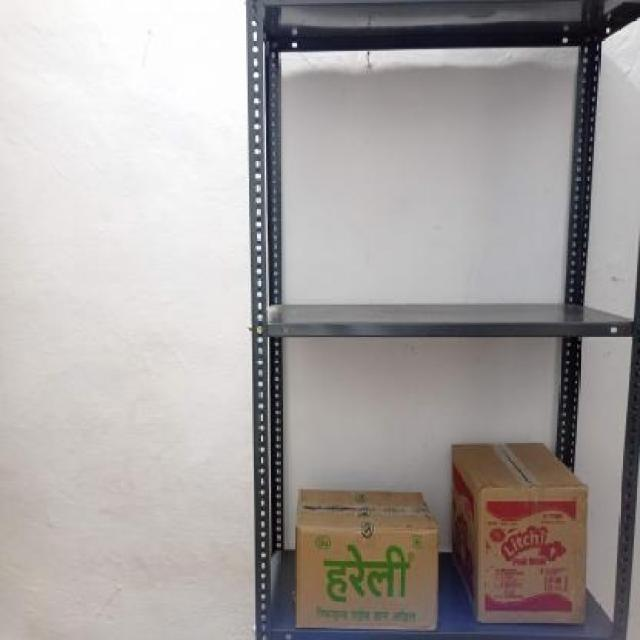box: (294, 526, 442, 631), (477, 484, 588, 624)
